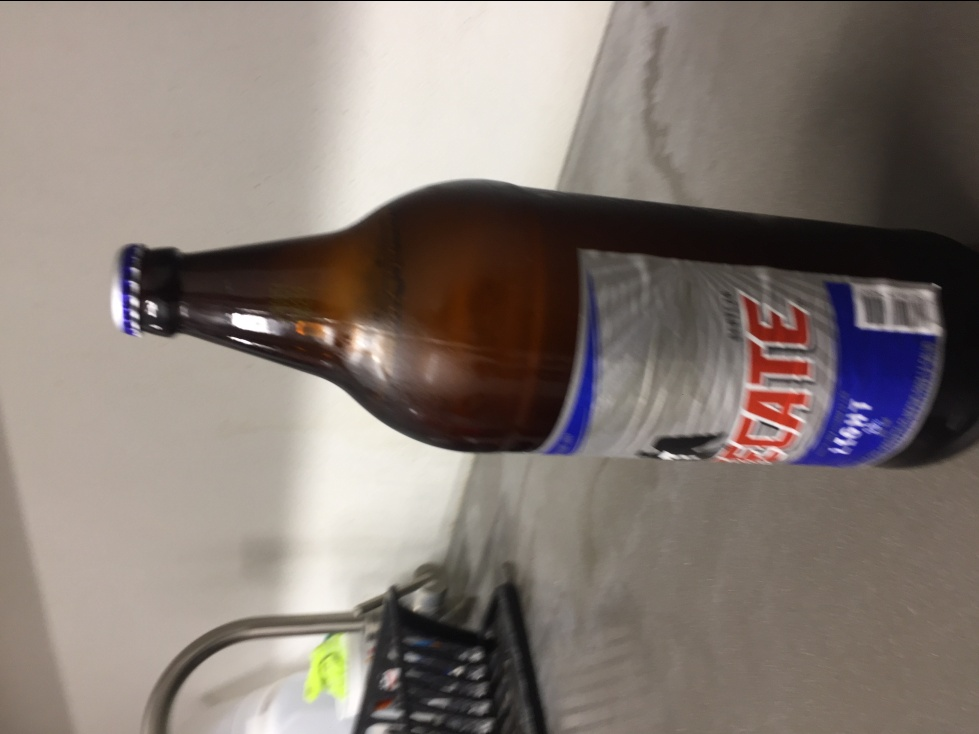tecateC: (111, 177, 979, 476)
